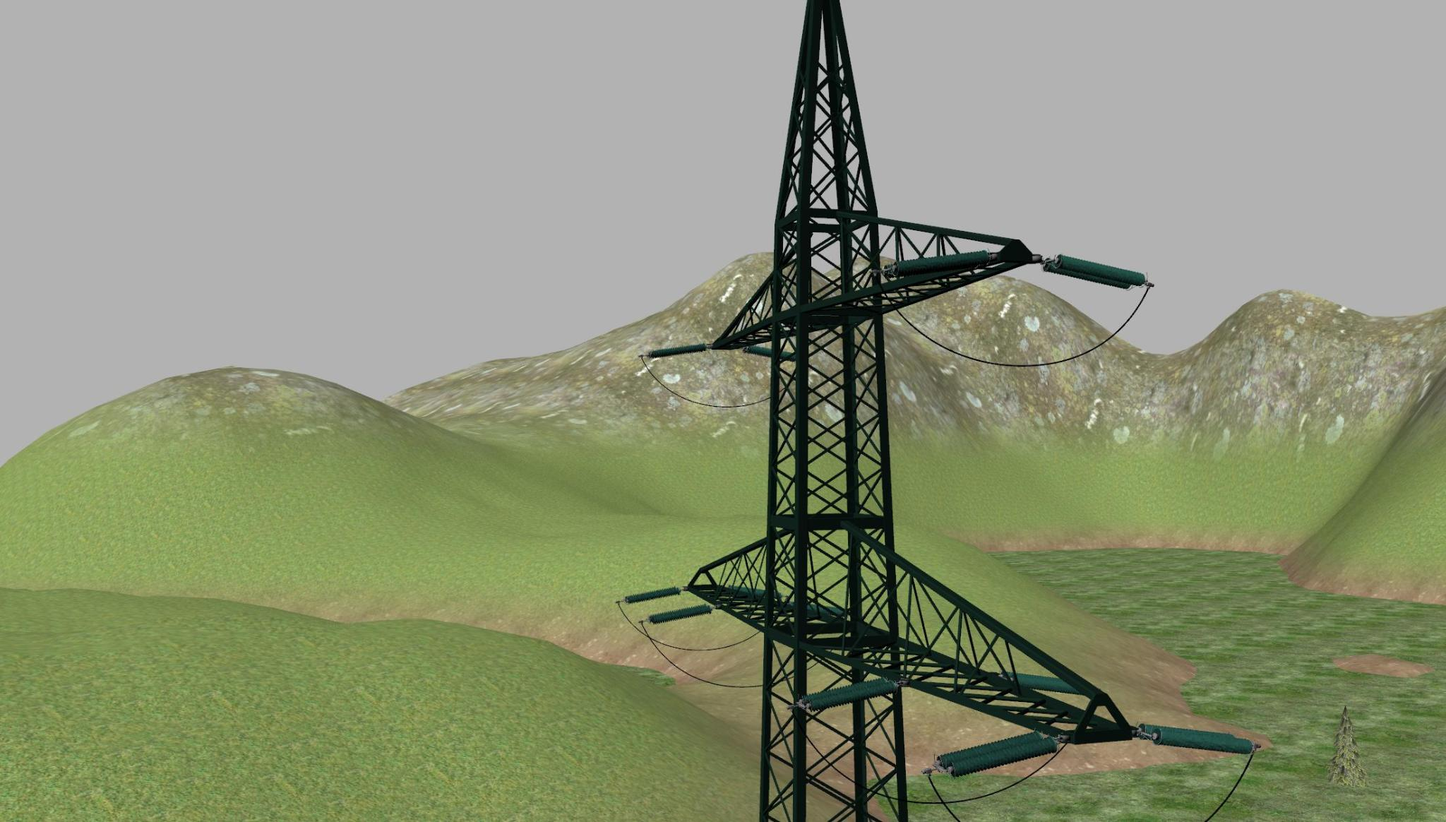tower: (681, 0, 1127, 822)
